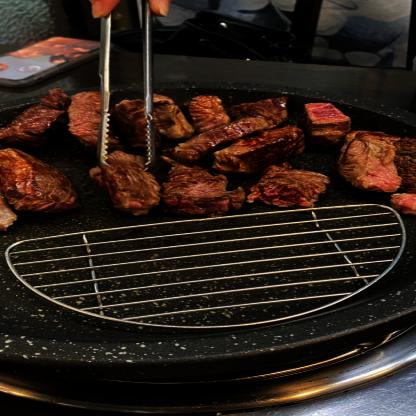Carne: (329, 133, 415, 195), (153, 115, 276, 157), (200, 126, 308, 172), (231, 165, 335, 209), (163, 165, 249, 217), (1, 150, 70, 210), (1, 86, 73, 140), (221, 96, 291, 132), (140, 94, 192, 139), (298, 100, 352, 141), (180, 92, 233, 133)
